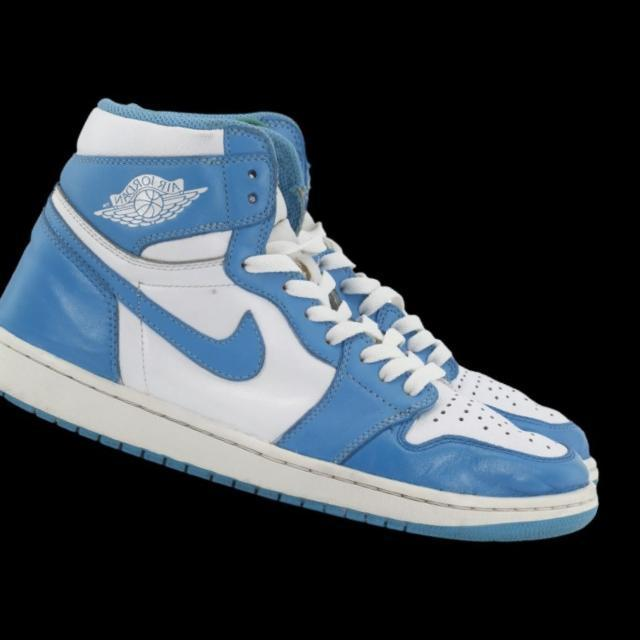nike original jordan 1: (0, 64, 640, 614)
